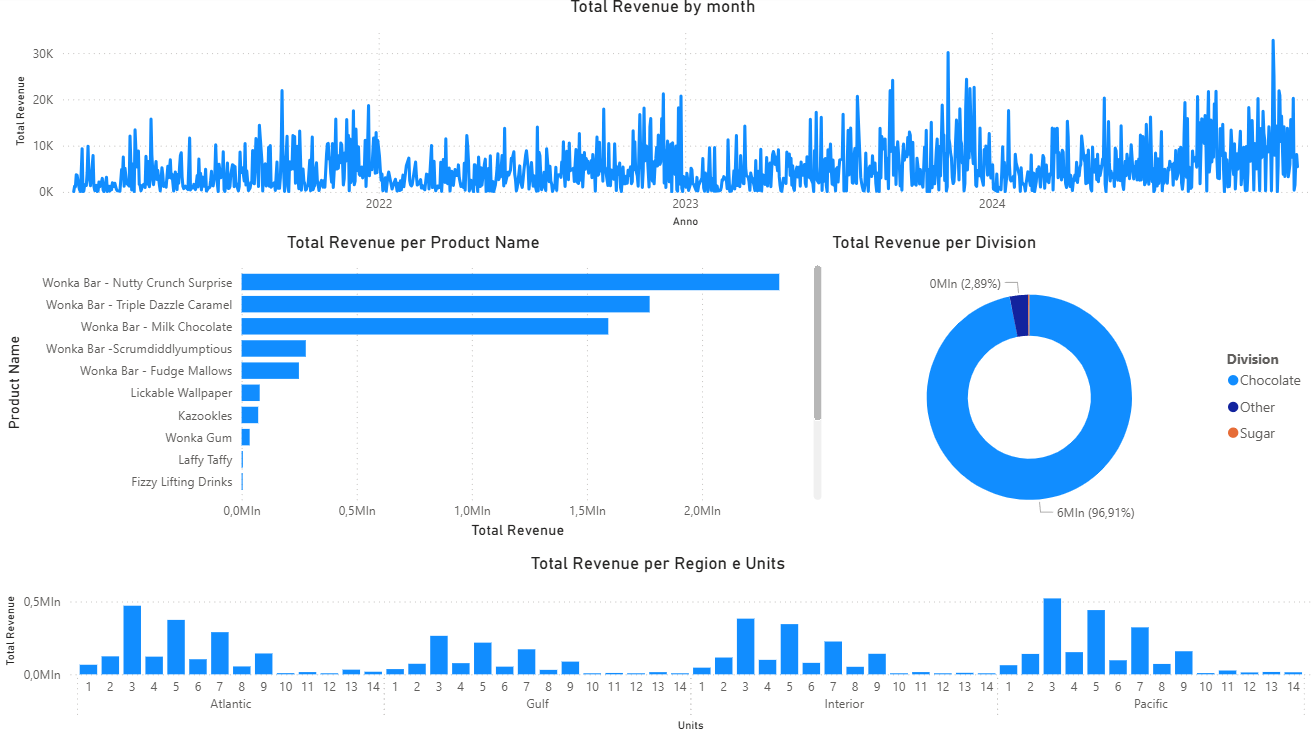

The page's visual inventory and layout, read from the dashboard file:
{"tool":"powerbi","page":{"name":"Sales Analysis","canvas":[1280,720],"ordinal":1},"visuals":[{"type":"lineChart","title":"Total Revenue by month","fields":{"Y":["candy_sales_featured.Total Revenue"],"Category":["candy_sales_featured.Order Date.Variazione.Gerarchia data.Anno","candy_sales_featured.Order Date.Variazione.Gerarchia data.Trimestre","candy_sales_featured.Order Date.Variazione.Gerarchia data.Mese","candy_sales_featured.Order Date.Variazione.Gerarchia data.Giorno"]},"box":[9.7,0,1270.3,229.5],"z":0},{"type":"clusteredBarChart","title":"Total Revenue per Product Name","fields":{"Y":["candy_sales_featured.Total Revenue"],"Category":["Candy_Products.Product Name"]},"box":[0,229.5,804.4,302.5],"z":1000},{"type":"donutChart","fields":{"Category":["candy_sales_featured.Division"],"Y":["candy_sales_featured.Total Revenue"]},"box":[804.4,229.5,475.6,302.5],"z":2000},{"type":"clusteredColumnChart","fields":{"Y":["candy_sales_featured.Total Revenue"],"Category":["candy_sales_featured.Region","candy_sales_featured.Units"]},"box":[0,541.8,1280,178],"z":3000}]}

Visuals, with their boxes in screenshot pixels (x1, y1, x2, y2), scaled from the page's 1280x720 canvas onto the 1316x736 screenshot:
"Total Revenue by month" lineChart: (x1=10, y1=0, x2=1315, y2=235)
"Total Revenue per Product Name" clusteredBarChart: (x1=0, y1=235, x2=827, y2=544)
donutChart - candy_sales_featured.Division x candy_sales_featured.Total Revenue: (x1=827, y1=235, x2=1315, y2=544)
clusteredColumnChart - candy_sales_featured.Total Revenue x candy_sales_featured.Region: (x1=0, y1=554, x2=1315, y2=735)
